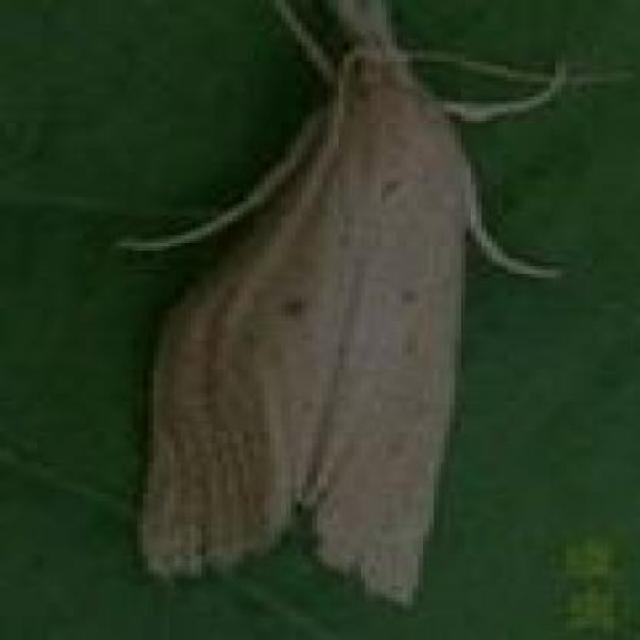stem-borer: (105, 0, 549, 605)
